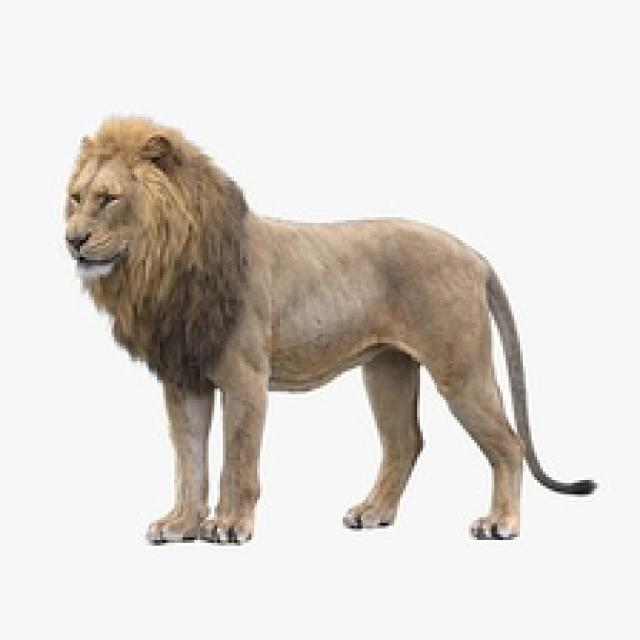lion: (28, 97, 622, 542)
